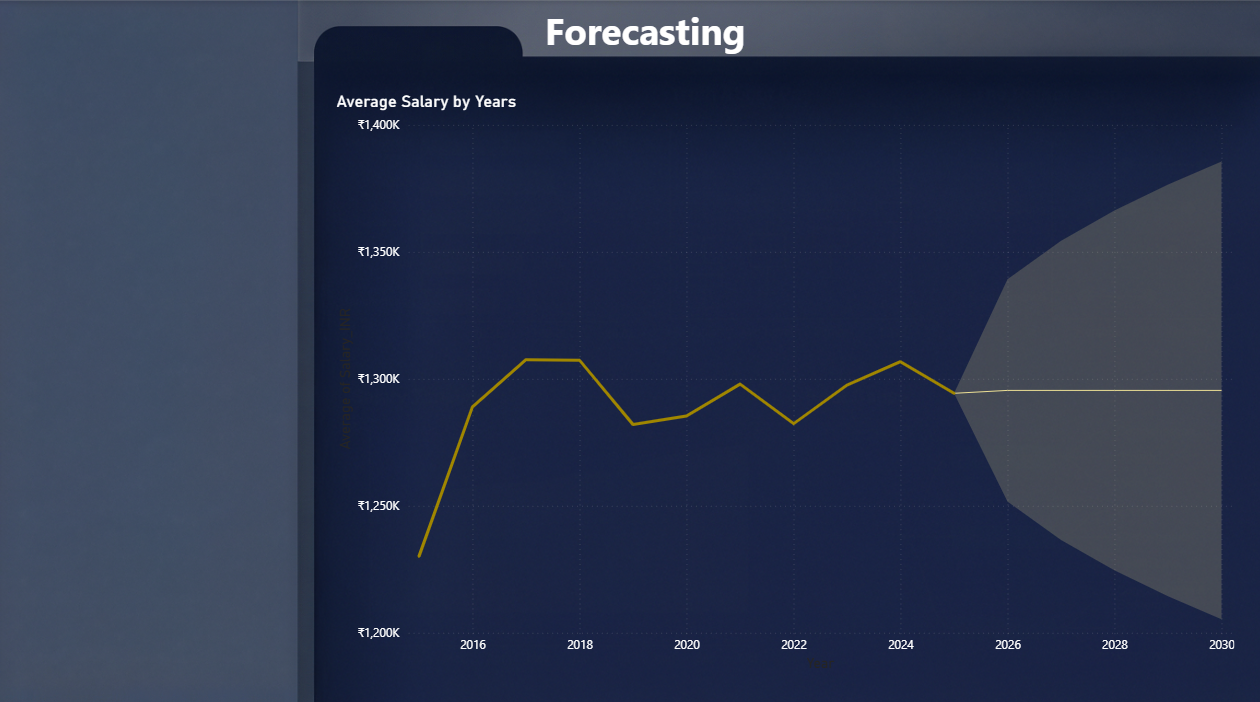

Layout of this report page (visuals, bound fields, positions):
{"tool":"powerbi","page":{"name":"Forecasting","canvas":[1280,720],"ordinal":2},"visuals":[{"type":"lineChart","title":"Average Salary by Years","fields":{"Category":["Job_Market_India.Record_Date.Variation.Date Hierarchy.Year","Job_Market_India.Record_Date.Variation.Date Hierarchy.Quarter","Job_Market_India.Record_Date.Variation.Date Hierarchy.Month","Job_Market_India.Record_Date.Variation.Date Hierarchy.Day"],"Y":["Avg(Job_Market_India.Salary_INR)"]},"box":[337.7,92.4,916.1,589],"z":0},{"type":"textbox","box":[548.1,0,295.3,72.7],"z":1000}]}

Visuals, with their boxes in screenshot pixels (x1, y1, x2, y2):
"Average Salary by Years" lineChart: (x1=307, y1=53, x2=1221, y2=640)
textbox: (x1=517, y1=0, x2=811, y2=33)
